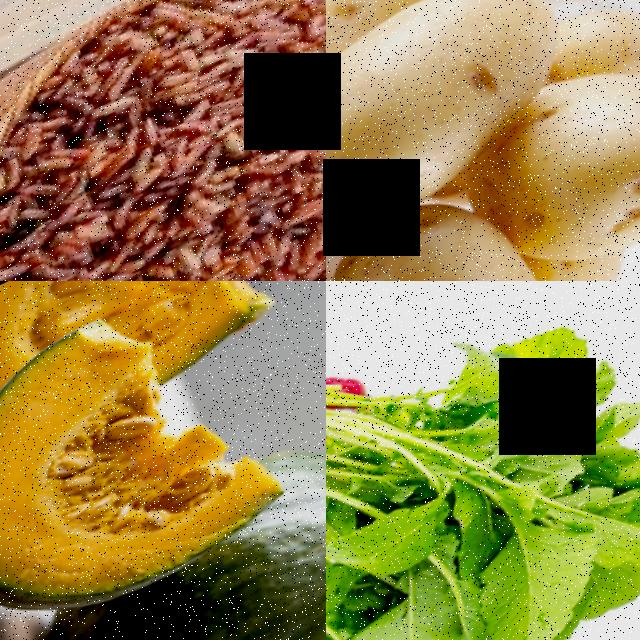potato: (326, 0, 609, 261), (485, 14, 640, 281), (326, 163, 637, 281)
pumpkin: (0, 281, 316, 640), (32, 449, 326, 640)
radishes: (326, 281, 474, 596)
red rice: (0, 0, 326, 281)
